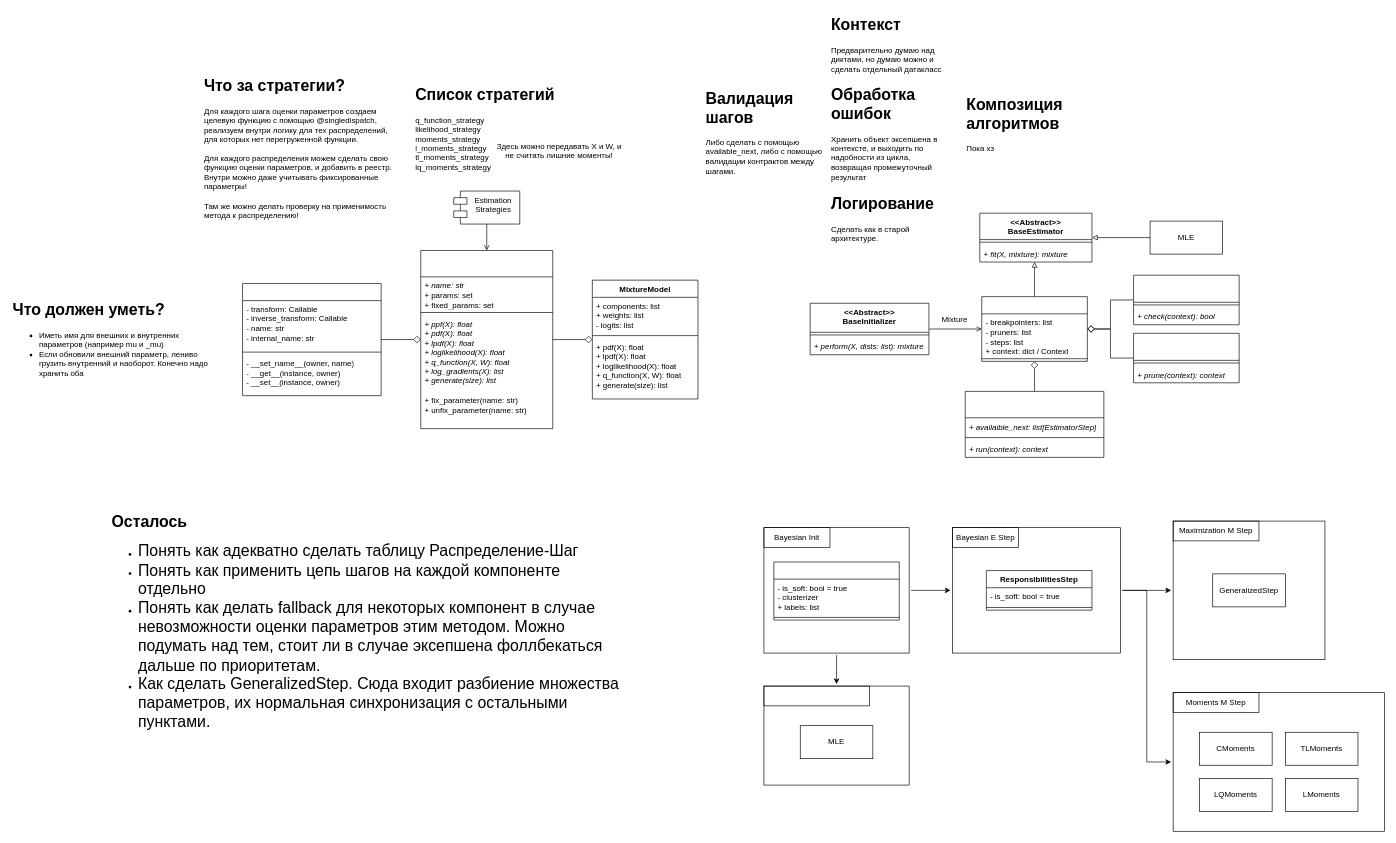
The diagram is 1396 pixels wide and 843 high, and some of its shapes have lost their labels. The box of each missing label's shape, as (x1, y1, x2, y2) in pixels:
<<Abstract>> BaseBreakpointer: (1133, 275, 1239, 325)
<<Abstract>> BasePruner: (1133, 333, 1239, 383)
<<Abstract>> ContinuousDistribution: (420, 250, 553, 429)
<<Abstract>> EstimatorStep: (965, 391, 1104, 457)
ClusterizeInitializer: (773, 561, 899, 620)
IterativeEstimator: (981, 296, 1087, 361)
Non Iterative Maximization: (763, 685, 870, 706)
Parameter: (242, 283, 381, 396)
